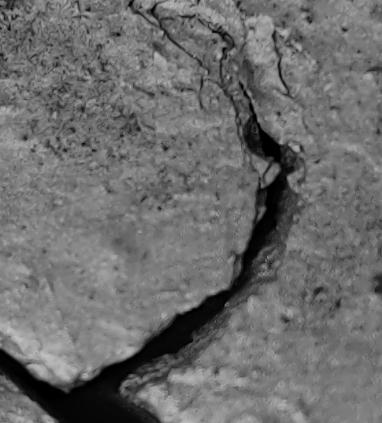crack: (1, 0, 382, 423)
